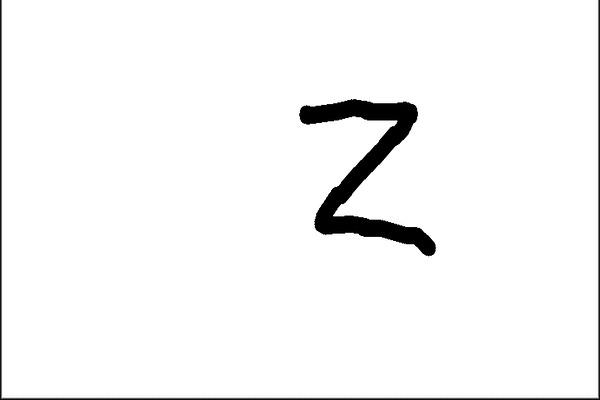Z: (292, 88, 443, 258)
